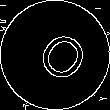O_SW: (22, 22, 88, 88)
